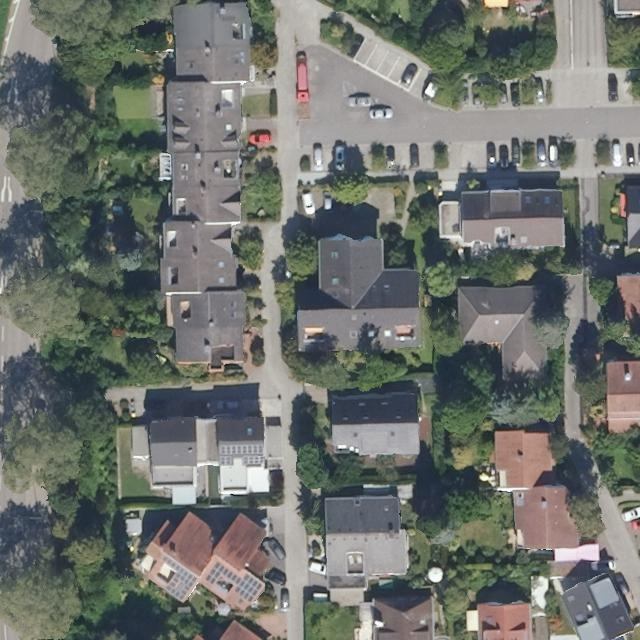PV: (204, 560, 265, 605), (161, 555, 199, 602), (219, 444, 264, 466)
